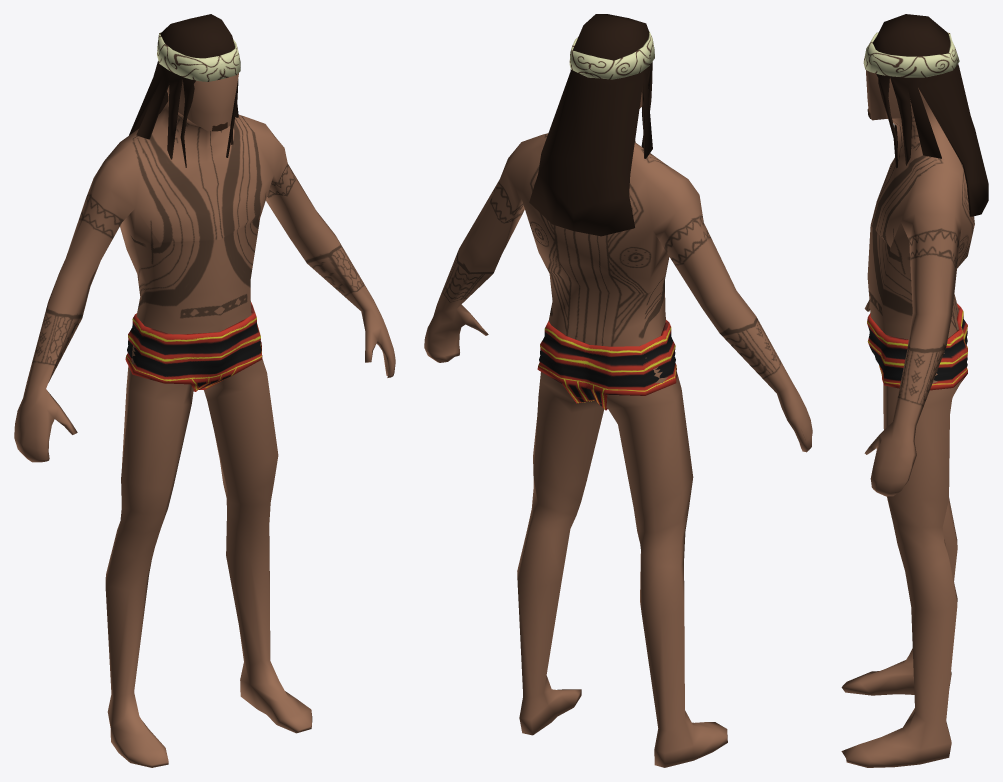
File: dumakulem no bahag.fbx
The picture shows the model from 3 angles, left to right: view 1: azimuth 30°, elevation 25°; view 2: azimuth 150°, elevation 25°; view 3: azimuth 270°, elevation 25°; orthographic projection. The views are drawn at different scales.
Parts seen in each view (by area): view 1: Dumakulem, Dumakulem Bahag, Dumakulem hair, Dumakulem Bandana; view 2: Dumakulem, Dumakulem hair, Dumakulem Bahag, Dumakulem Bandana; view 3: Dumakulem, Dumakulem hair, Dumakulem Bahag, Dumakulem Bandana.
Boxes of the visible parts, x1,y1,x2,y2 form: Dumakulem: [14, 73, 395, 767]; Dumakulem Bahag: [125, 302, 262, 391]; Dumakulem hair: [129, 14, 238, 167]; Dumakulem Bandana: [157, 32, 240, 81]; Dumakulem: [424, 92, 812, 767]; Dumakulem hair: [529, 14, 652, 236]; Dumakulem Bahag: [537, 320, 676, 410]; Dumakulem Bandana: [569, 31, 654, 79]; Dumakulem: [841, 70, 974, 767]; Dumakulem hair: [872, 14, 988, 216]; Dumakulem Bahag: [867, 303, 967, 390]; Dumakulem Bandana: [863, 32, 959, 77].
Bounding box in the file's own units: 196 × 351 × 66.74.
5 materials, 5 textured.
